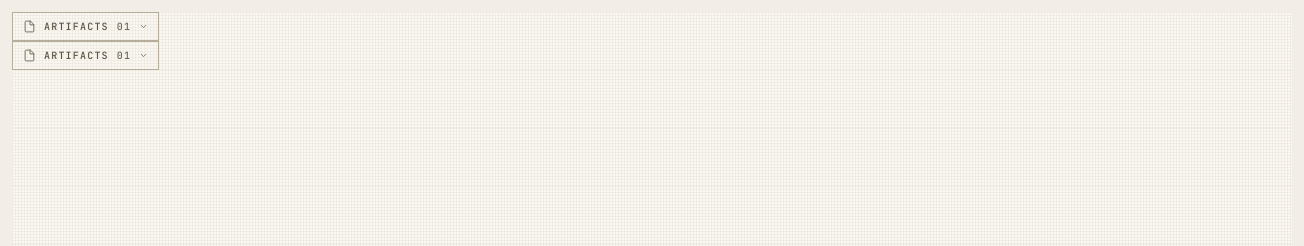
Test: ArtifactsMenu › routes the inspector action and flips its label
Earlier steps of the test are not shown.
Click the 2nd button titled "Artifacts".
click(86, 56)  # box [12, 41, 159, 70]
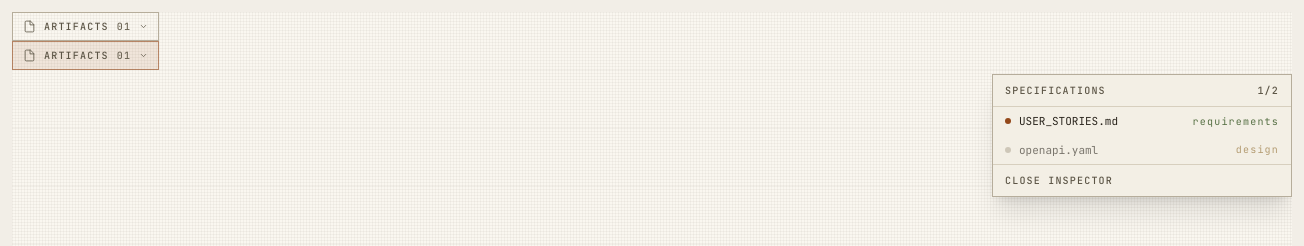
Now the button "CLOSE INSPECTOR" is shown, box [993, 164, 1291, 196]
